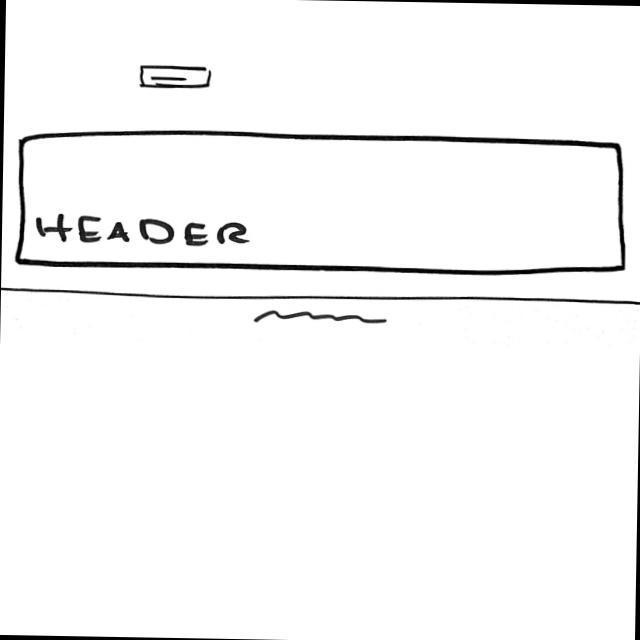container: (14, 129, 628, 279)
icon-button: (134, 63, 213, 92)
label: (35, 212, 255, 249)
text: (254, 310, 392, 328)
